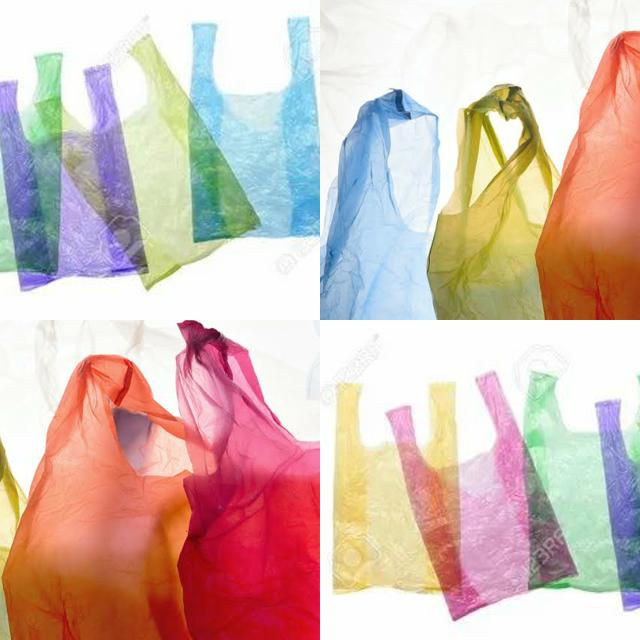Single-layer Plastic: (29, 22, 270, 300), (366, 357, 591, 634), (2, 355, 191, 639), (176, 321, 319, 640), (0, 54, 158, 301), (181, 7, 326, 247), (328, 368, 473, 602), (428, 84, 560, 319), (536, 31, 640, 319), (524, 361, 640, 618), (321, 90, 439, 318)
